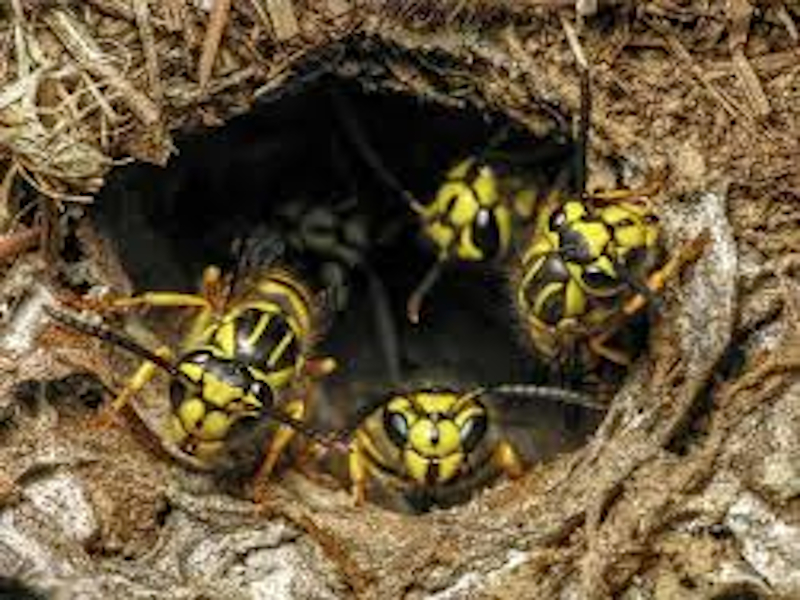chax: (95, 218, 355, 521), (517, 149, 697, 388), (329, 372, 547, 519), (364, 129, 541, 290)
